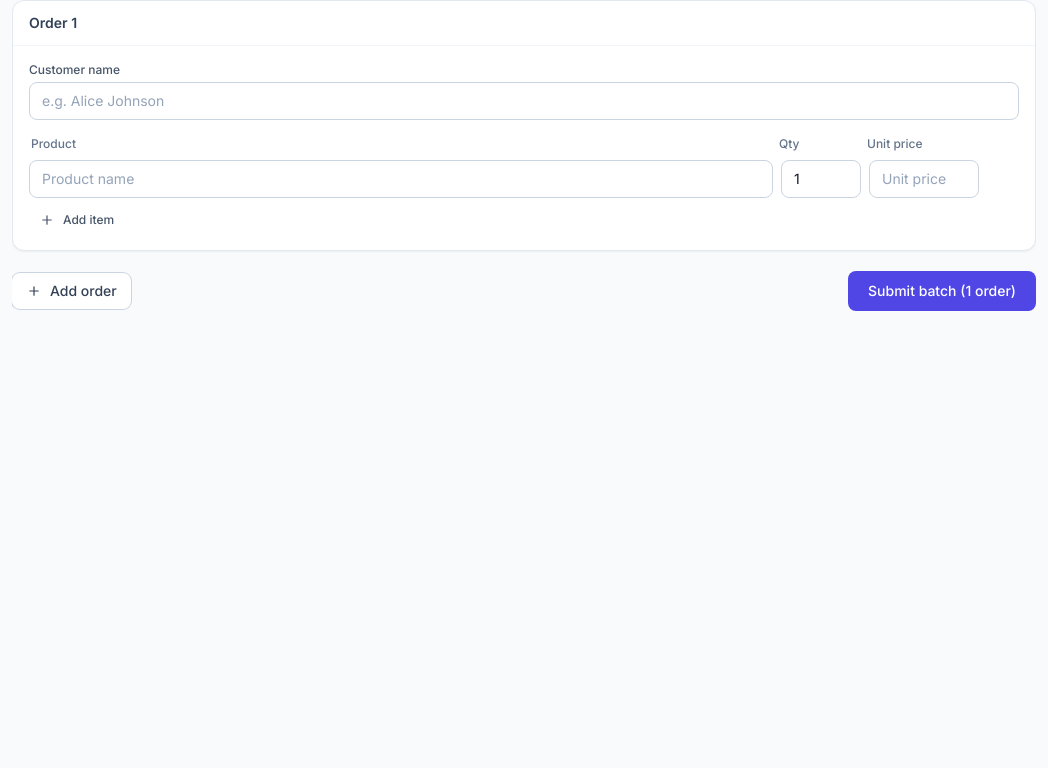
CreateBatchForm › adds a second order when "Add order" is clicked
Click the button "Add order" at coordinates (71, 291), box [12,273,131,309]
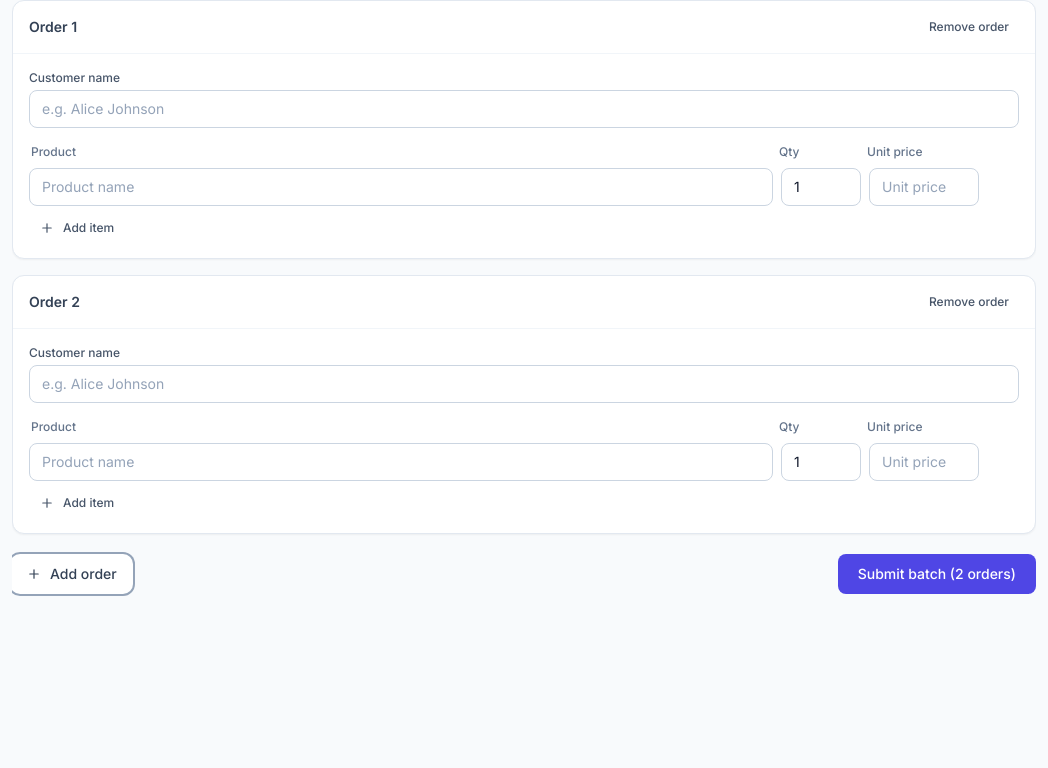
Result: the text "Order 2" is shown at [29,292,80,312]
